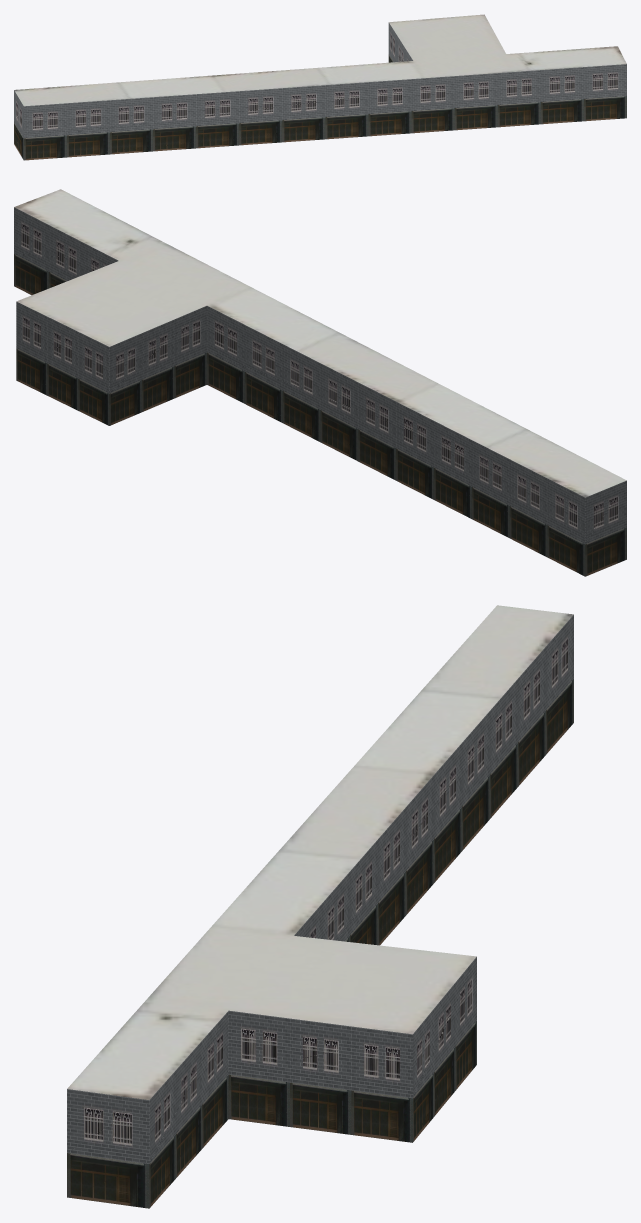
File: T_1T67S4PAM5.dae
The picture shows the model from 3 angles, top to bottom: view 1: azimuth 30°, elevation 25°; view 2: azimuth 150°, elevation 25°; view 3: azimuth 270°, elevation 25°; orthographic projection. The views are drawn at different scales.
Parts seen in each view (by area): view 1: SketchUp (×6); view 2: SketchUp (×11); view 3: SketchUp (×11).
Boxes of the visible parts, x1,y1,x2,y2 form: SketchUp (×6): (14,14,626,160); SketchUp (×11): (14,189,626,576); SketchUp (×11): (67,605,573,1208).
Bounding box in the file's own units: 78.64 × 34.04 × 8.04.
3 materials, 3 textured.
